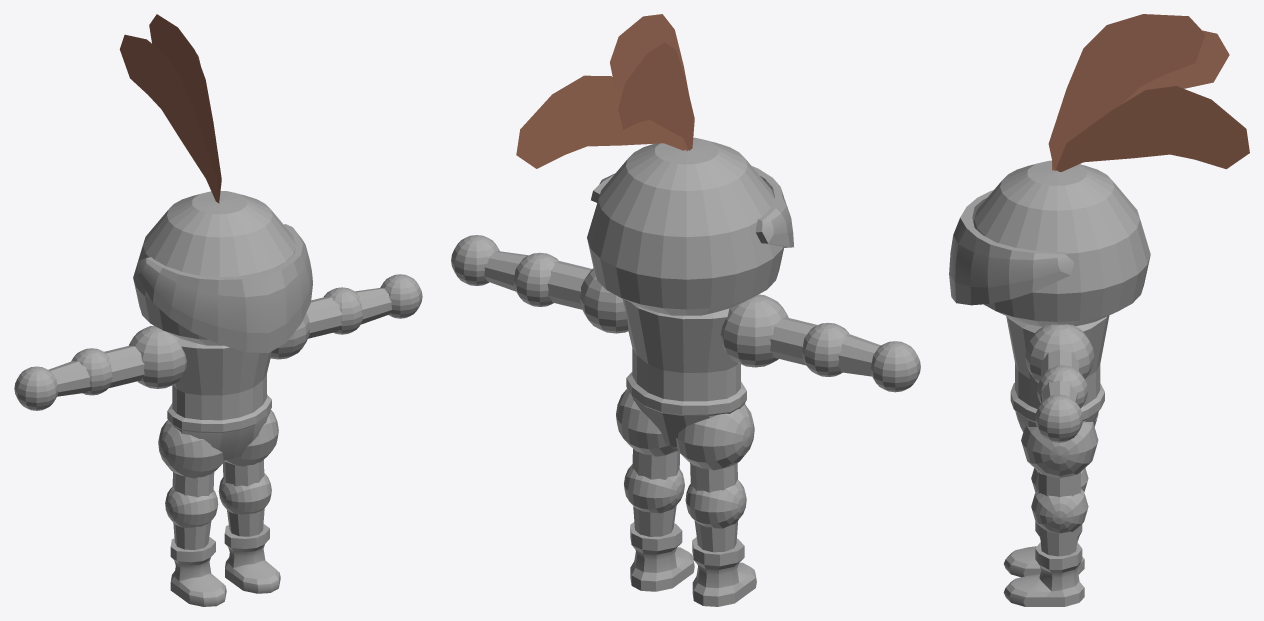
File: CARA_Model.fbx
3 views of the same model, side by side, from view 1: azimuth 30°, elevation 25°; view 2: azimuth 150°, elevation 25°; view 3: azimuth 270°, elevation 25° (orthographic). The views are drawn at different scales.
Visible parts, largest first — view 1: Knight_Visor, Knight_Head, Knight_Body1, Knight_Feather2, Knight_Feather, Knight_FootR, Knight_FootL, Knight_ShoulderR, Knight_LegR, Knight_KneeR, Knight_HandR, Knight_KneeL (+13 smaller); view 2: Knight_Head, Knight_Body1, Knight_Feather1, Knight_Feather2, Knight_LegR, Knight_ShoulderR, Knight_FootL, Knight_FootR, Knight_Feather, Knight_KneeR, Knight_HandR, Knight_LegL (+14 smaller); view 3: Knight_Head, Knight_Feather, Knight_Feather1, Knight_Visor, Knight_Body1, Knight_FootL, Knight_LegL, Knight_ShoulderL, Knight_Feather2, Knight_KneeL, Knight_HandL, Knight_FootR (+5 smaller).
Boxes of the visible parts, <box> form: Knight_Visor: <box>136,224,312,353</box>; Knight_Head: <box>133,191,296,345</box>; Knight_Body1: <box>167,338,271,460</box>; Knight_Feather2: <box>119,34,219,203</box>; Knight_Feather: <box>149,14,221,199</box>; Knight_FootR: <box>170,537,226,606</box>; Knight_FootL: <box>224,524,280,593</box>; Knight_ShoulderR: <box>129,325,186,388</box>; Knight_LegR: <box>158,420,224,478</box>; Knight_KneeR: <box>165,486,218,527</box>; Knight_HandR: <box>14,366,58,410</box>; Knight_KneeL: <box>218,473,271,514</box>; Knight_Head: <box>587,137,784,315</box>; Knight_Body1: <box>622,298,746,446</box>; Knight_Feather1: <box>516,75,685,168</box>; Knight_Feather2: <box>618,42,694,150</box>; Knight_LegR: <box>676,405,754,470</box>; Knight_ShoulderR: <box>720,294,788,367</box>; Knight_FootL: <box>630,522,694,591</box>; Knight_FootR: <box>692,537,756,606</box>; Knight_Feather: <box>610,14,688,151</box>; Knight_KneeR: <box>685,480,746,528</box>; Knight_HandR: <box>871,341,920,392</box>; Knight_LegL: <box>616,388,678,456</box>; Knight_Head: <box>973,160,1150,326</box>; Knight_Feather: <box>1048,14,1205,170</box>; Knight_Feather1: <box>1056,86,1249,171</box>; Knight_Visor: <box>949,190,1074,305</box>; Knight_Body1: <box>1006,316,1109,431</box>; Knight_FootL: <box>1003,542,1084,606</box>; Knight_LegL: <box>1021,421,1098,477</box>; Knight_ShoulderL: <box>1025,324,1094,383</box>; Knight_Feather2: <box>1052,30,1229,170</box>; Knight_KneeL: <box>1031,489,1088,533</box>; Knight_HandL: <box>1035,394,1083,442</box>; Knight_FootR: <box>1004,521,1084,577</box>.
Size of the model in its own units: 56.7 by 70.86 by 34.02.
